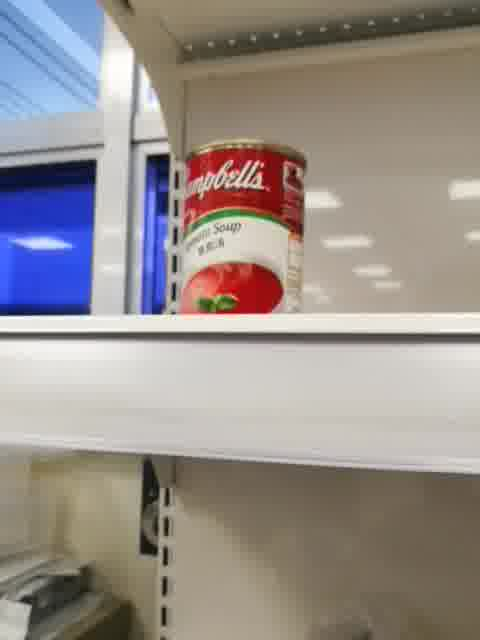tomatosoup: (176, 138, 310, 315)
